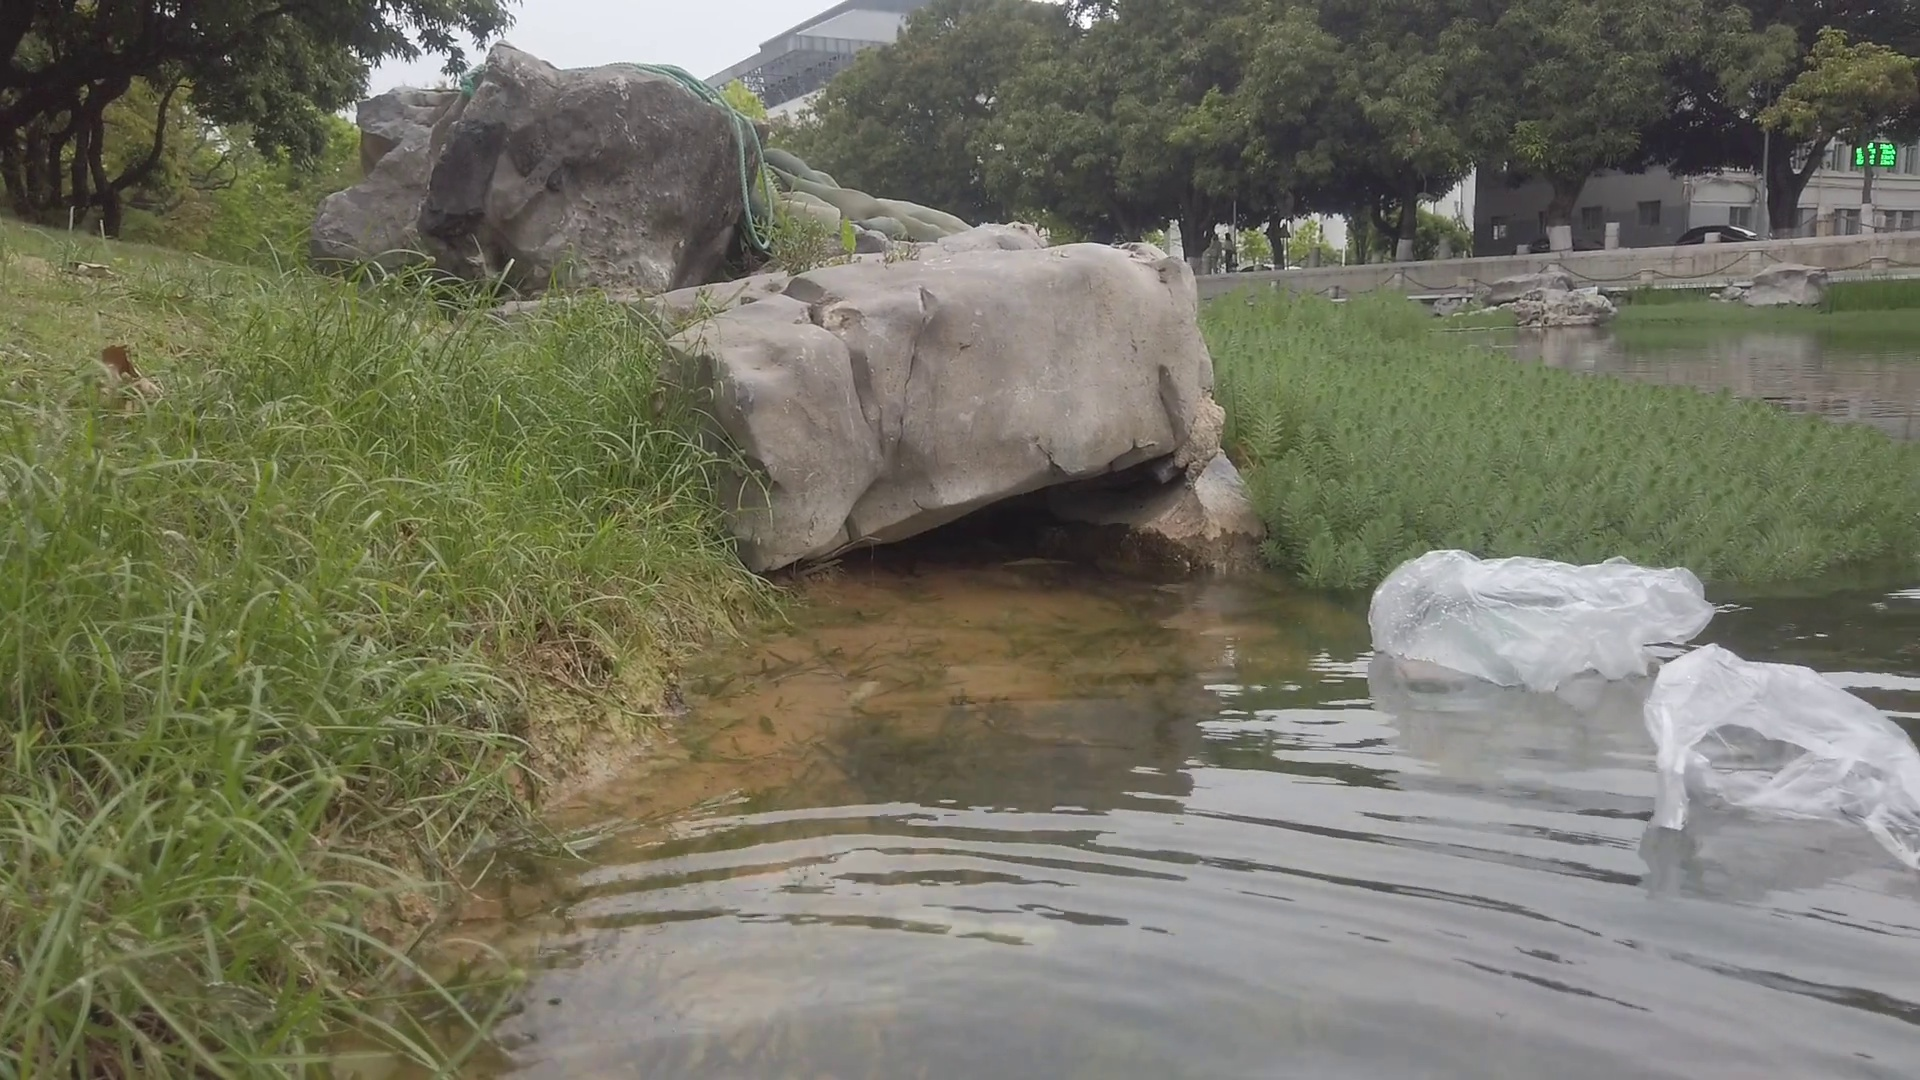plastic: (1654, 644, 1920, 873), (1332, 549, 1724, 702)
